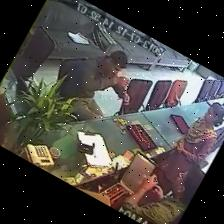person: (159, 103, 223, 193), (122, 166, 204, 223), (61, 51, 128, 120)
